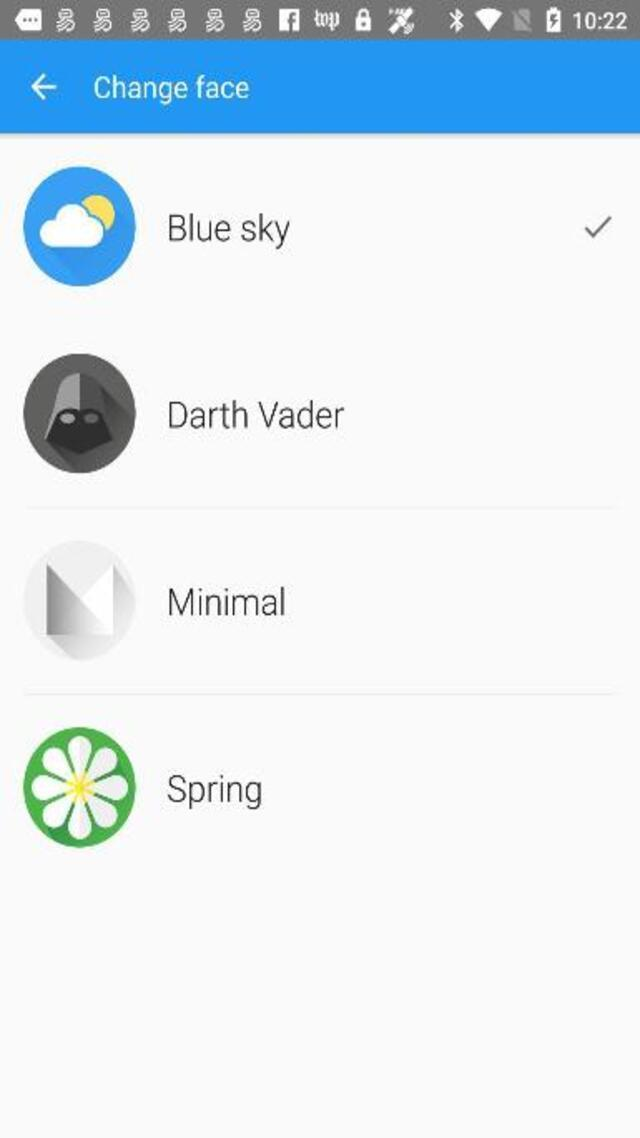Icon: (23, 727, 136, 848), (23, 352, 136, 473), (23, 540, 136, 659), (24, 166, 136, 286), (29, 73, 56, 101), (584, 216, 612, 239)
Text: (168, 400, 344, 429), (94, 74, 248, 104), (169, 213, 290, 249), (168, 774, 261, 809), (168, 587, 284, 615)
